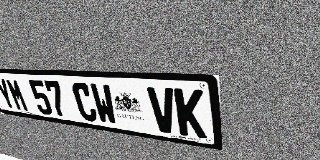5: (28, 80, 54, 116)
7: (43, 81, 70, 118)
C: (70, 82, 99, 122)
K: (174, 88, 207, 139)
M: (5, 78, 30, 112)
V: (147, 87, 178, 134)
W: (89, 83, 119, 125)
Y: (0, 78, 17, 110)
